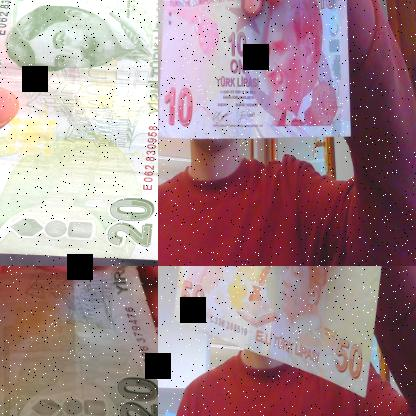5 TL: (0, 0, 157, 262)
